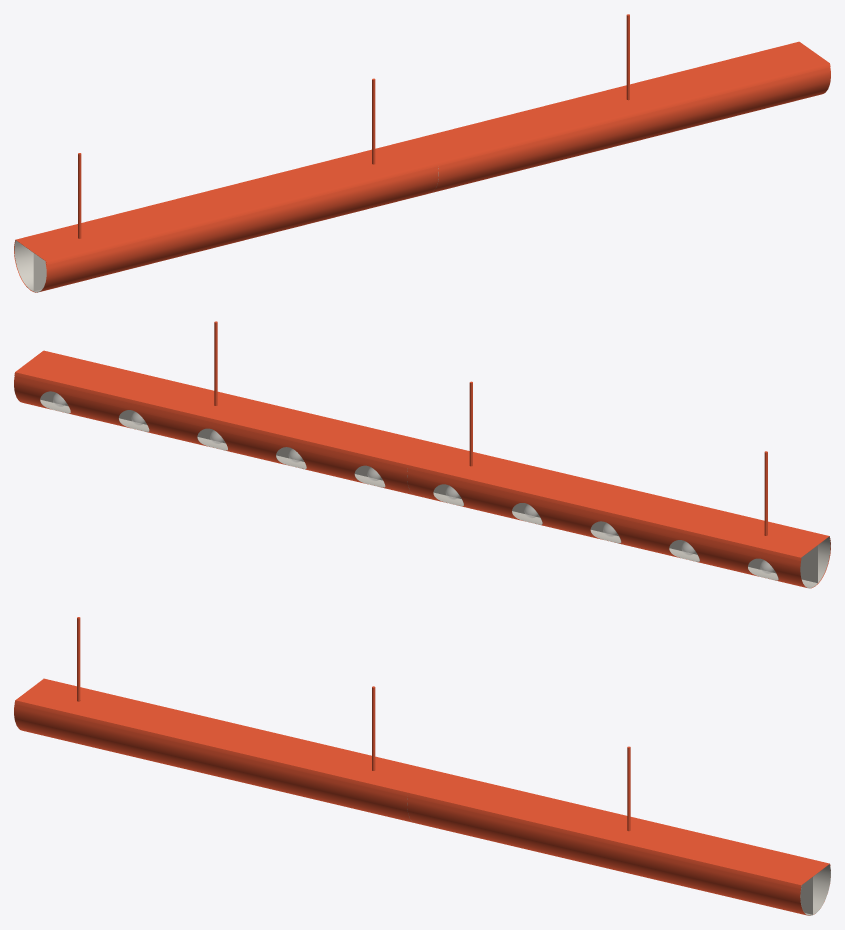
Rendered from svetlo_01.gltf.
3 views of the same model, one above another, from view 1: azimuth 30°, elevation 25°; view 2: azimuth 150°, elevation 25°; view 3: azimuth 330°, elevation 25° (orthographic).
Visible parts, largest first — view 1: object_20.002, object_39.001, object_21.001, object_2.009, object_22.001; view 2: object_20.002, object_39.001, object_21.001, object_2.009, object_26.001, object_22.001, object_7.012, object_3.016; view 3: object_20.002, object_39.001, object_2.009, object_21.001, object_3.016.
Part boxes in pixels (box(x1,y1,x2,y2)): object_20.002: box(408, 41, 830, 165); object_39.001: box(15, 140, 438, 264); object_21.001: box(14, 166, 438, 292); object_2.009: box(432, 67, 830, 192); object_22.001: box(14, 168, 438, 292); object_20.002: box(14, 350, 435, 468); object_39.001: box(407, 443, 829, 560); object_21.001: box(407, 468, 830, 588); object_2.009: box(14, 375, 412, 494); object_26.001: box(433, 484, 817, 583); object_22.001: box(407, 468, 830, 588); object_7.012: box(40, 391, 382, 480); object_3.016: box(40, 399, 385, 487); object_20.002: box(407, 771, 830, 888); object_39.001: box(15, 678, 436, 796); object_2.009: box(407, 796, 830, 915); object_21.001: box(14, 700, 413, 822); object_3.016: box(800, 864, 830, 915).
Size of the model in its own units: 4 by 0.6016 by 0.3379.
